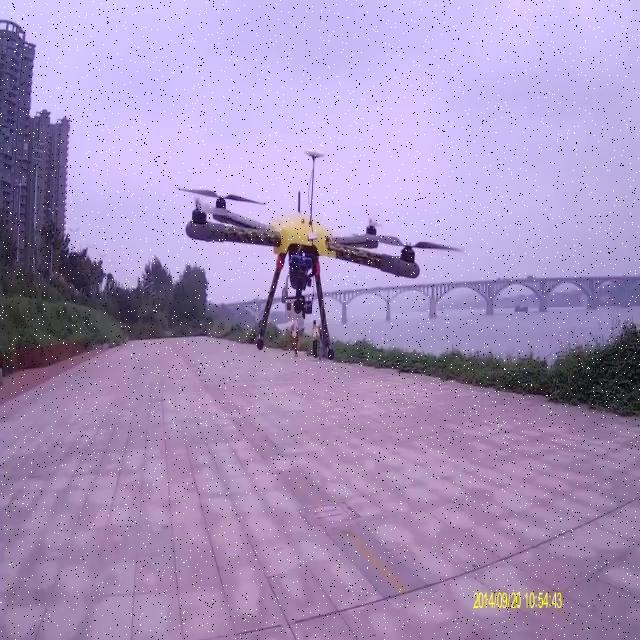UAV: (183, 150, 433, 360)
